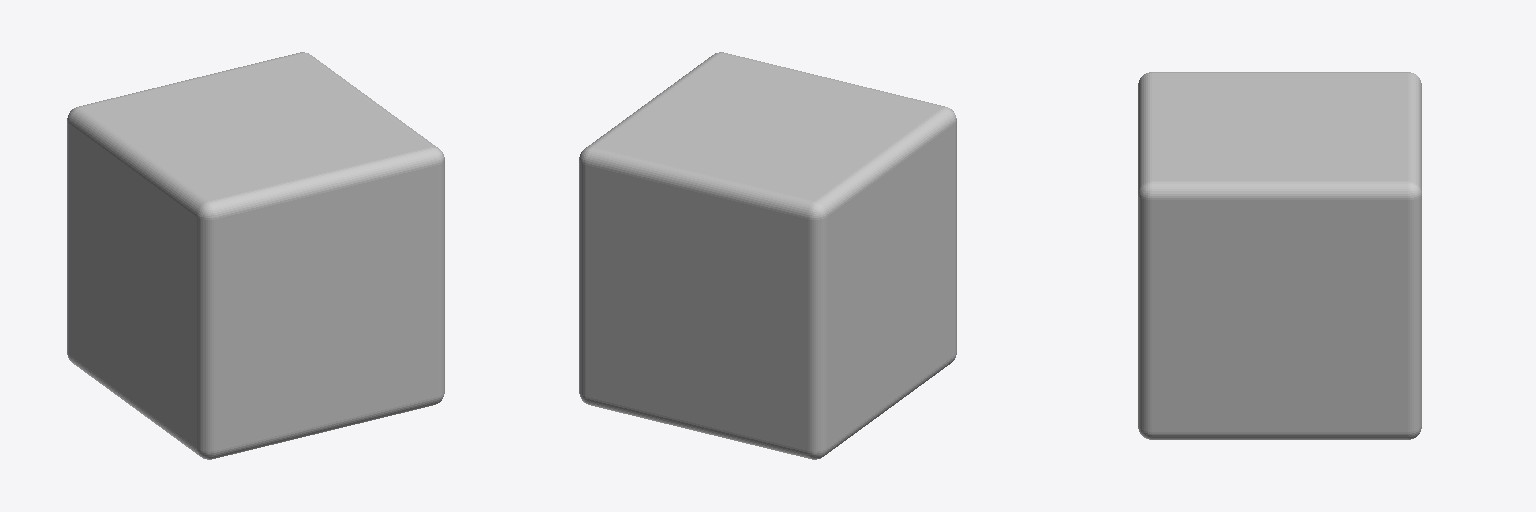
Rendered from RoundedCube.obj.
3 views of the same model, side by side, from view 1: azimuth 30°, elevation 25°; view 2: azimuth 150°, elevation 25°; view 3: azimuth 270°, elevation 25° (orthographic).
Visible parts, largest first — view 1: Cube; view 2: Cube; view 3: Cube.
Part boxes in pixels (x1,y1,x2,y2): Cube: (67, 52, 444, 459); Cube: (579, 52, 956, 459); Cube: (1138, 72, 1421, 439).
Size of the model in its own units: 1 by 1 by 1.